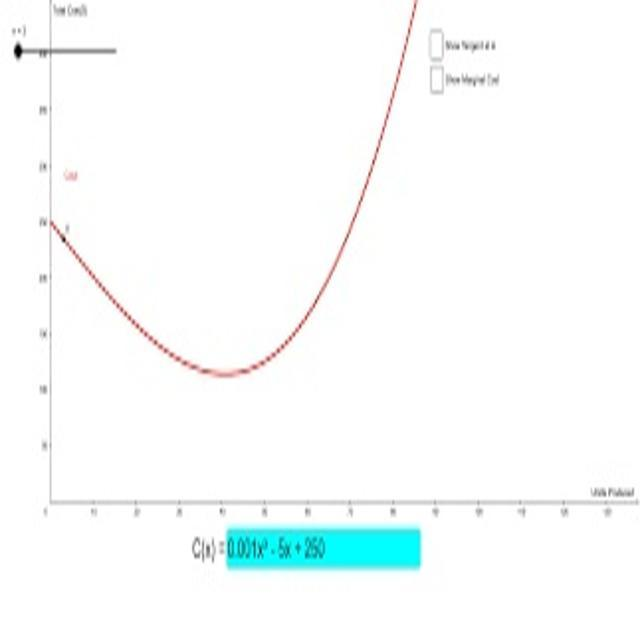axis: (45, 494, 640, 507), (45, 1, 58, 514)
line: (50, 0, 422, 381)
